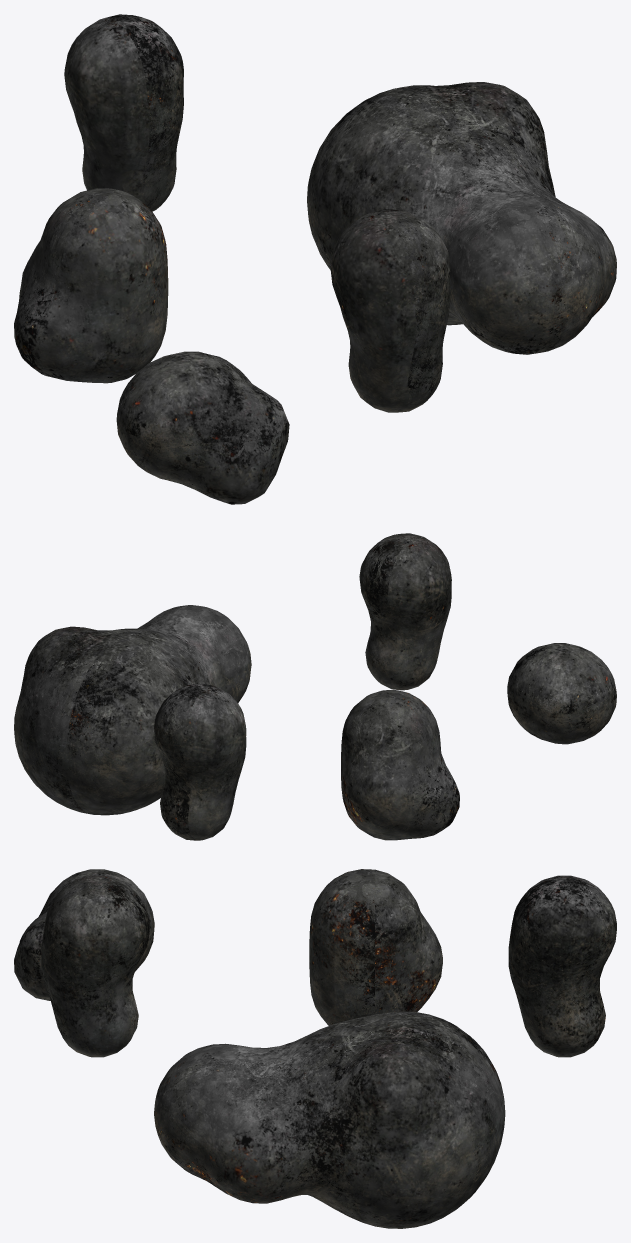
Rendered from ore_asteroids.glb.
The picture shows the model from 3 angles, top to bottom: view 1: azimuth 30°, elevation 25°; view 2: azimuth 150°, elevation 25°; view 3: azimuth 270°, elevation 25°; orthographic projection. The views are drawn at different scales.
Visible parts, largest first — view 1: Mball.000_Mesh.001; view 2: Mball.000_Mesh.001; view 3: Mball.000_Mesh.001.
Boxes of the visible parts, bbox=[...] form: Mball.000_Mesh.001: bbox=[14, 14, 616, 504]; Mball.000_Mesh.001: bbox=[14, 533, 616, 840]; Mball.000_Mesh.001: bbox=[14, 869, 616, 1228].
Size of the model in its own units: 1.97 by 0.8879 by 2.
Materials: 1 (1 with a texture image).
